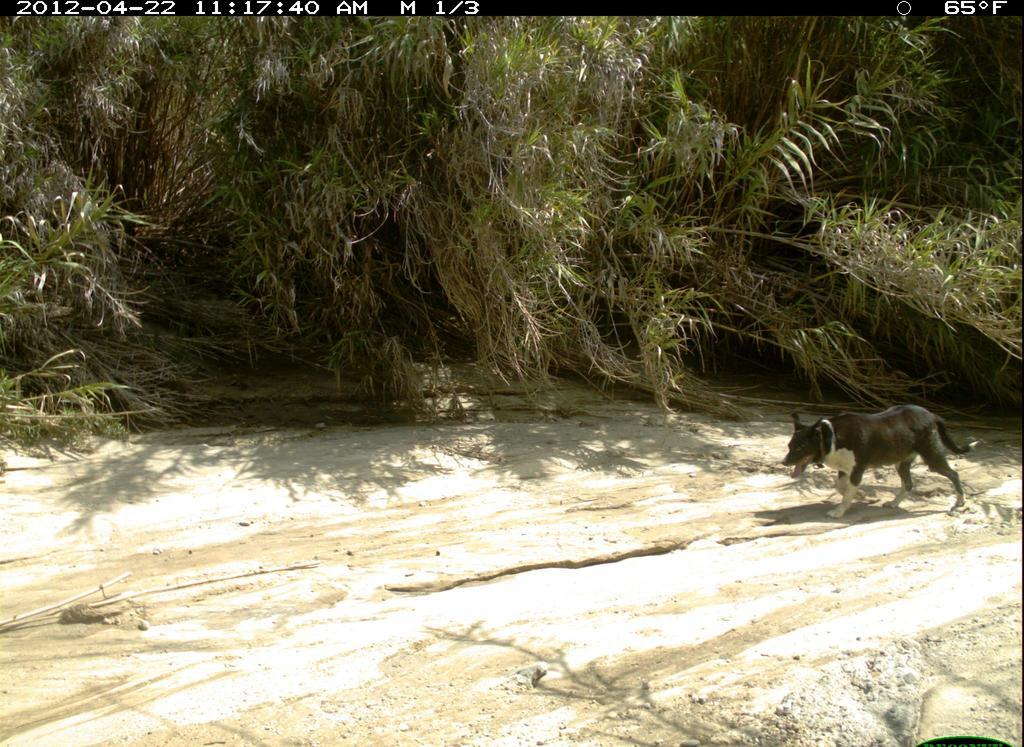dog: (775, 378, 998, 546)
